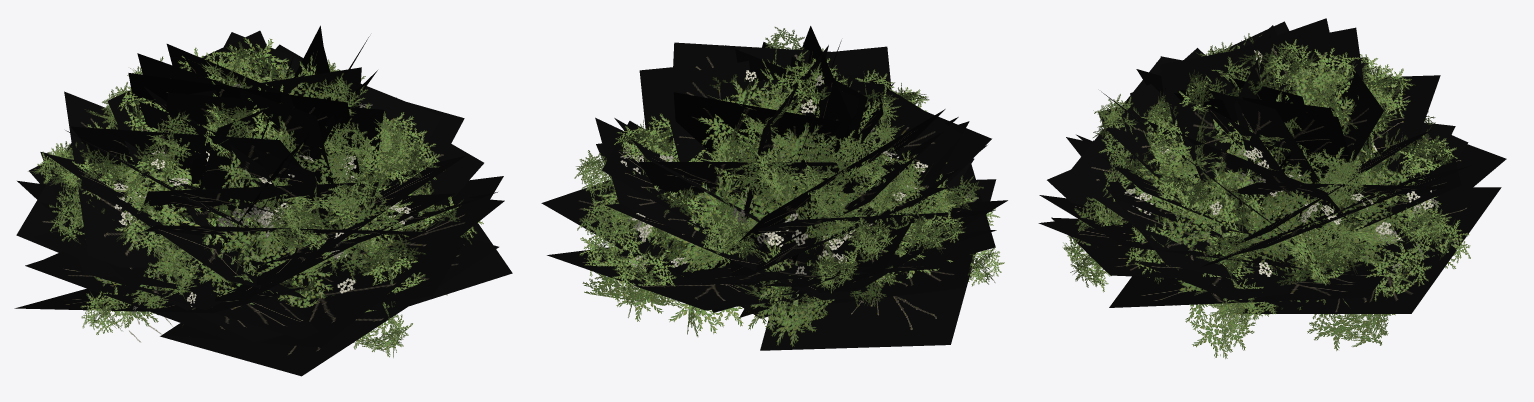
Rendered from Bush_A.fbx.
3 views of the same model, side by side, from view 1: azimuth 30°, elevation 25°; view 2: azimuth 150°, elevation 25°; view 3: azimuth 270°, elevation 25° (orthographic). The views are drawn at different scales.
Parts seen in each view (by area): view 1: Bush_A_LOD0; view 2: Bush_A_LOD0; view 3: Bush_A_LOD0.
Boxes of the visible parts, x1,y1,x2,y2 form: Bush_A_LOD0: (14, 25, 512, 376); Bush_A_LOD0: (541, 26, 1007, 350); Bush_A_LOD0: (1038, 18, 1506, 358).
Size of what is drawn, in the model's own units: 209 by 137 by 211.
